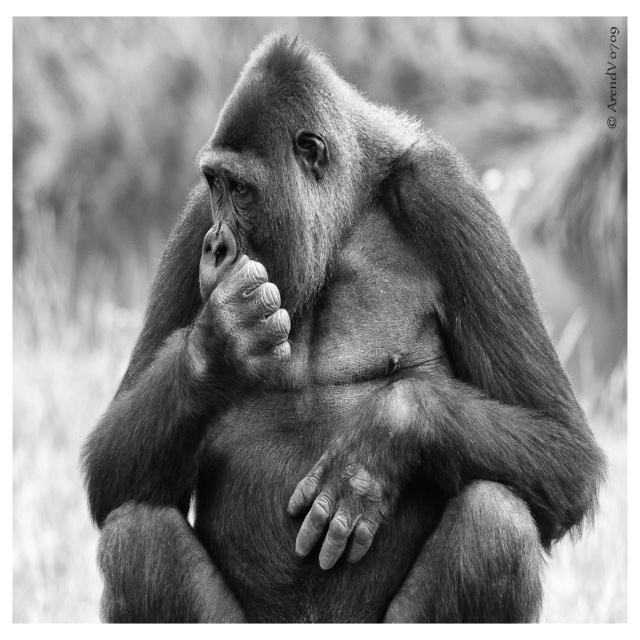Monkey: (83, 29, 606, 628)
